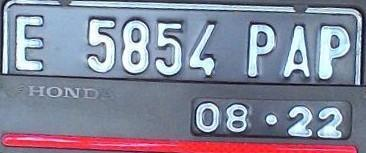clone-license-plate: (1, 1, 361, 144)
